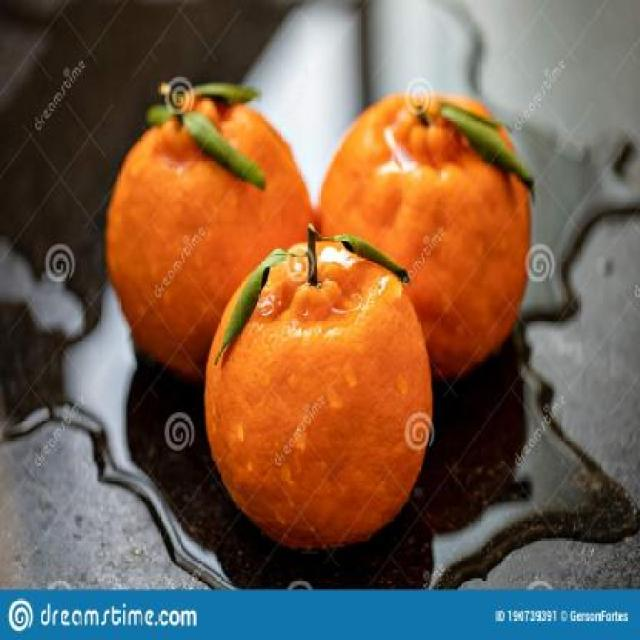Orange: (201, 223, 434, 549), (103, 78, 314, 380), (315, 88, 534, 378)
